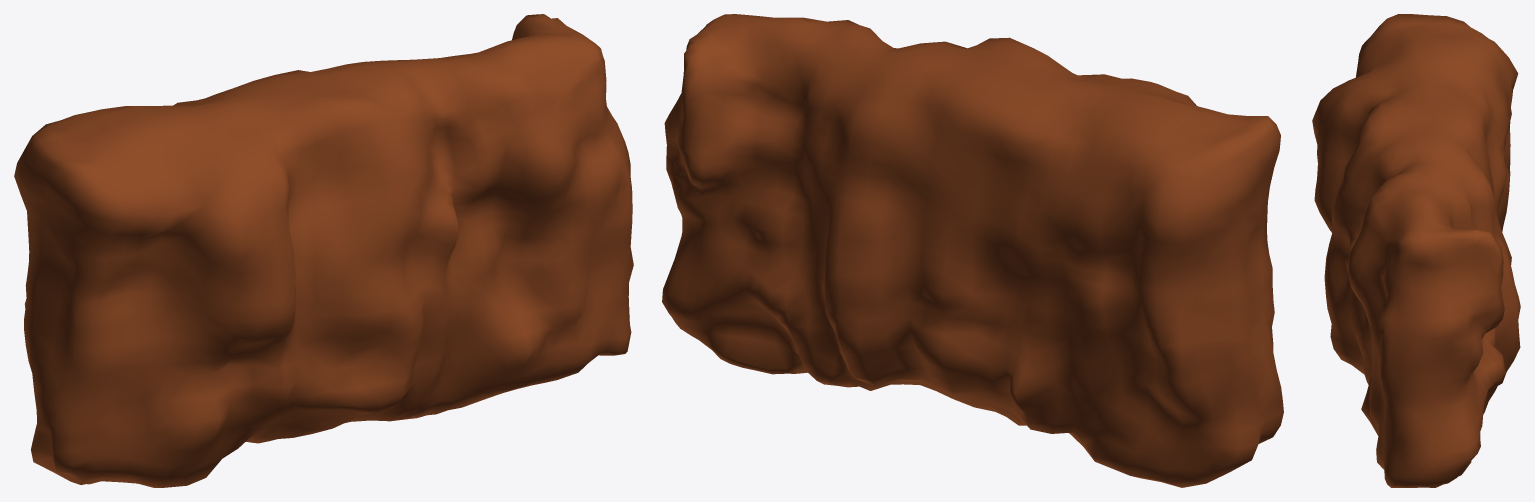
The model's file is 3D_GEN_ENV_MOUNTAIN3LOWFINAL.FBX.
3 views of the same model, side by side, from view 1: azimuth 30°, elevation 25°; view 2: azimuth 150°, elevation 25°; view 3: azimuth 270°, elevation 25° (orthographic). The views are drawn at different scales.
Visible parts, largest first — view 1: 3D_GEN_ENV_MOUNTAIN3LOWFINAL; view 2: 3D_GEN_ENV_MOUNTAIN3LOWFINAL; view 3: 3D_GEN_ENV_MOUNTAIN3LOWFINAL.
Part boxes in pixels (box(x1,y1,x2,y2)): 3D_GEN_ENV_MOUNTAIN3LOWFINAL: box(14, 14, 633, 487); 3D_GEN_ENV_MOUNTAIN3LOWFINAL: box(662, 14, 1283, 487); 3D_GEN_ENV_MOUNTAIN3LOWFINAL: box(1312, 14, 1520, 487).
Bounding box in the file's own units: 134 × 78.13 × 51.42.
